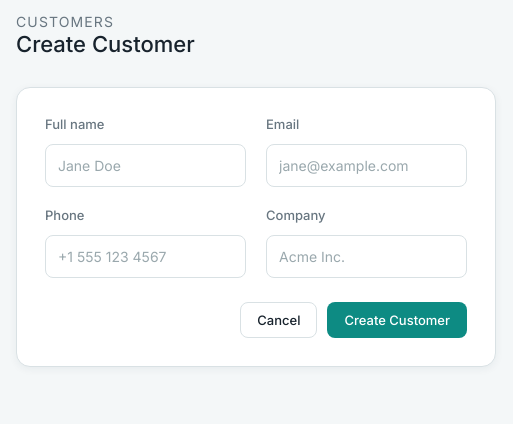
Scenario: CustomerCreateView › shows the duplicate-email message on a 409 and stays on the form
This screenshot has width=513, height=424.
In the field with id "customer-fullName": (146, 165) [45,144,246,187], type "New Customer"
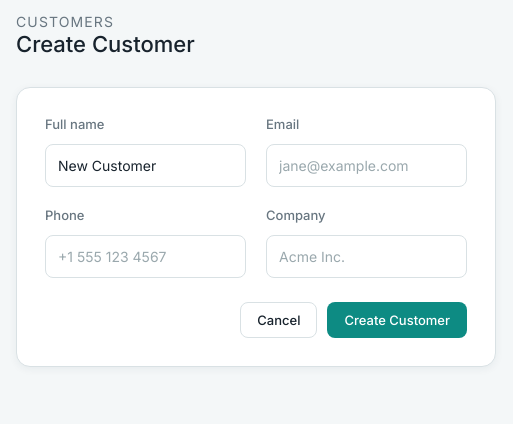
In the field with id "customer-email": (366, 165) [266,144,467,187], type "new@example.com"
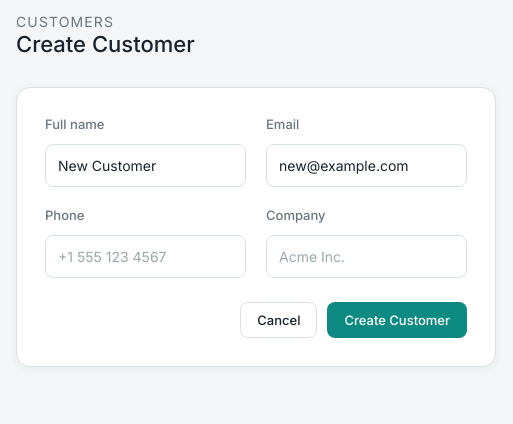
Submit the form
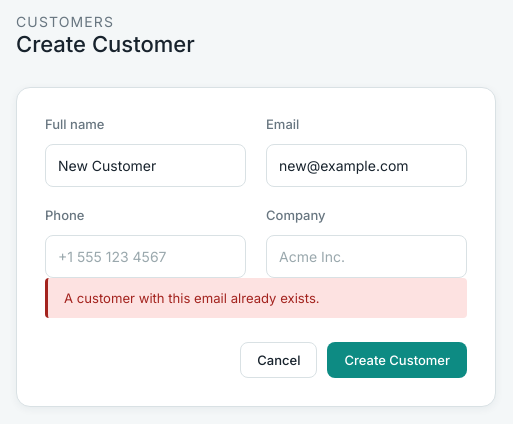
Result: the message "A customer with this email already exists." is shown at [45,278,467,318]
